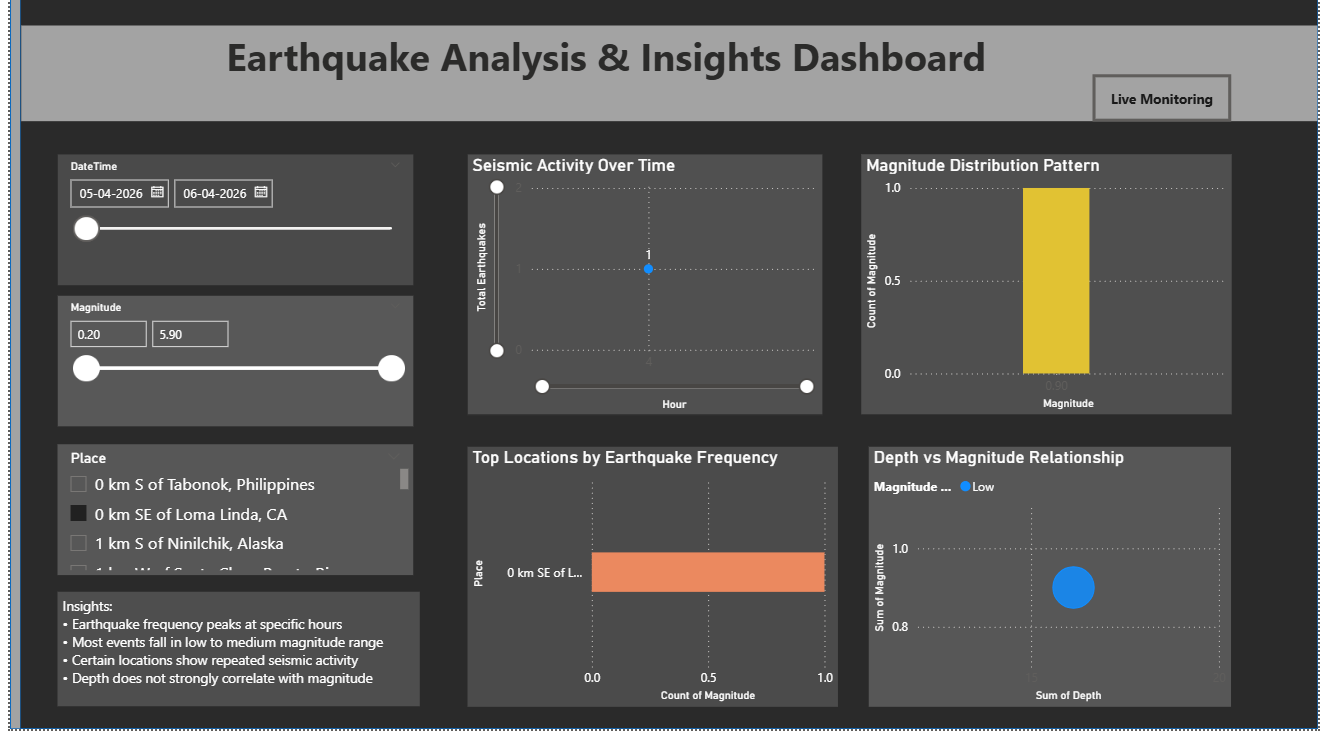

The page's visual inventory and layout, read from the dashboard file:
{"tool":"powerbi","page":{"name":"Analysis","canvas":[1280,720],"ordinal":1},"visuals":[{"type":"shape","box":[9.8,0,1270.5,720.2],"z":0},{"type":"textbox","box":[10.7,32.1,1269.3,93.7],"z":1000},{"type":"shape","box":[0,0,1280,720.3],"z":2000},{"type":"columnChart","title":"Magnitude Distribution Pattern","fields":{"Category":["all_day.Magnitude"],"Y":["CountNonNull(all_day.Magnitude)"]},"box":[832.8,158.1,362.4,254.5],"z":3000},{"type":"lineChart","title":"Seismic Activity Over Time","fields":{"Category":["all_day.Hour"],"Y":["all_day.Total Earthquakes"]},"box":[447.2,158.1,347,254.5],"z":4000},{"type":"barChart","title":"Top Locations by Earthquake Frequency","fields":{"Category":["all_day.Place"],"Y":["CountNonNull(all_day.Magnitude)"]},"box":[447.2,443.4,362.4,254.5],"z":5000},{"type":"scatterChart","title":"Depth vs Magnitude Relationship","fields":{"X":["Sum(all_day.Depth)"],"Y":["Sum(all_day.Magnitude)"],"Size":["Sum(all_day.Magnitude)"],"Series":["all_day.Magnitude Category"]},"box":[840.5,443.4,354.7,254.5],"z":6000},{"type":"slicer","fields":{"Values":["all_day.DateTime"]},"box":[46,158,348,128],"z":7000},{"type":"slicer","fields":{"Values":["all_day.Magnitude"]},"box":[46,296,348,128],"z":8000},{"type":"slicer","fields":{"Values":["all_day.Place"]},"box":[46,442,348,128],"z":9000},{"type":"actionButton","box":[1059,79.5,135.7,46.5],"z":10000},{"type":"textbox","box":[46,586,354,112],"z":10001}]}

Visuals, with their boxes in screenshot pixels (x1, y1, x2, y2), scaled from the page's 1280x720 canvas onto the 1331x734 screenshot:
shape: bbox=(10, 0, 1330, 733)
textbox: bbox=(11, 33, 1330, 128)
shape: bbox=(0, 0, 1330, 733)
"Magnitude Distribution Pattern" columnChart: bbox=(866, 161, 1243, 421)
"Seismic Activity Over Time" lineChart: bbox=(465, 161, 826, 421)
"Top Locations by Earthquake Frequency" barChart: bbox=(465, 452, 842, 711)
"Depth vs Magnitude Relationship" scatterChart: bbox=(874, 452, 1243, 711)
slicer - all_day.DateTime: bbox=(48, 161, 410, 292)
slicer - all_day.Magnitude: bbox=(48, 302, 410, 432)
slicer - all_day.Place: bbox=(48, 451, 410, 581)
actionButton: bbox=(1101, 81, 1242, 128)
textbox: bbox=(48, 597, 416, 712)
